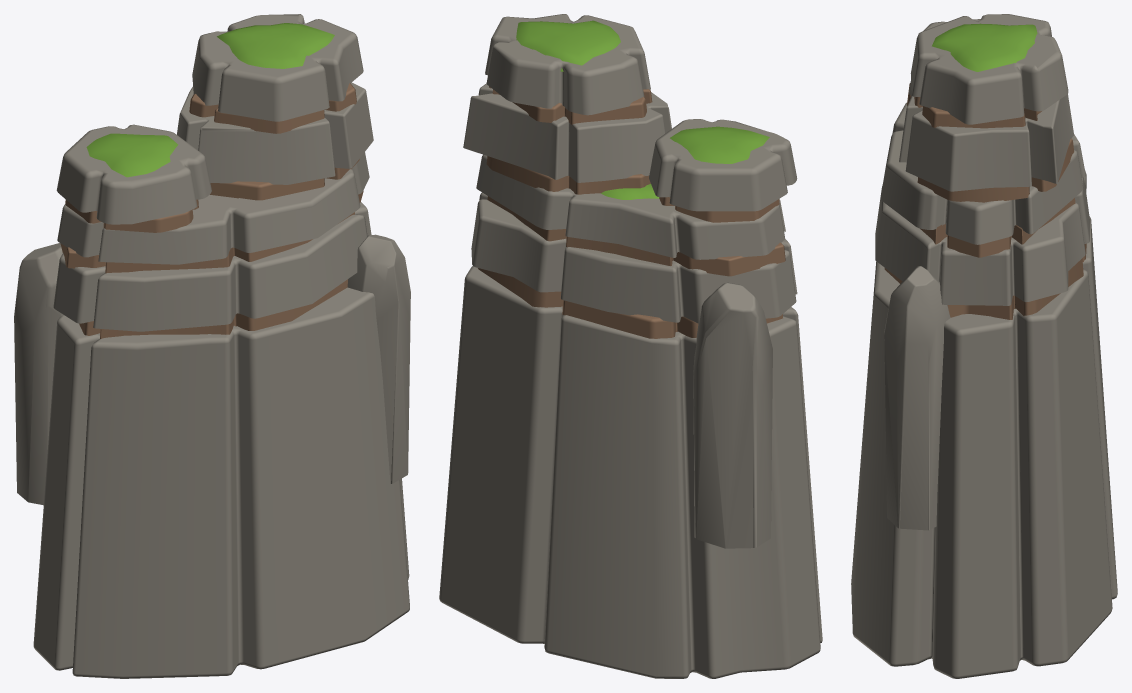
File: cliff_a.glb
3 renders of one model, left to right at view 1: azimuth 30°, elevation 25°; view 2: azimuth 150°, elevation 25°; view 3: azimuth 270°, elevation 25°, orthographic. The views are drawn at different scales.
Visible parts, largest first — view 1: cliff_a; view 2: cliff_a; view 3: cliff_a.
Part boxes in pixels (bbox=[...]): cliff_a: bbox=[14, 14, 410, 678]; cliff_a: bbox=[439, 14, 822, 678]; cliff_a: bbox=[851, 14, 1117, 678].
Size of the model in its own units: 11.32 by 17.39 by 7.11.
